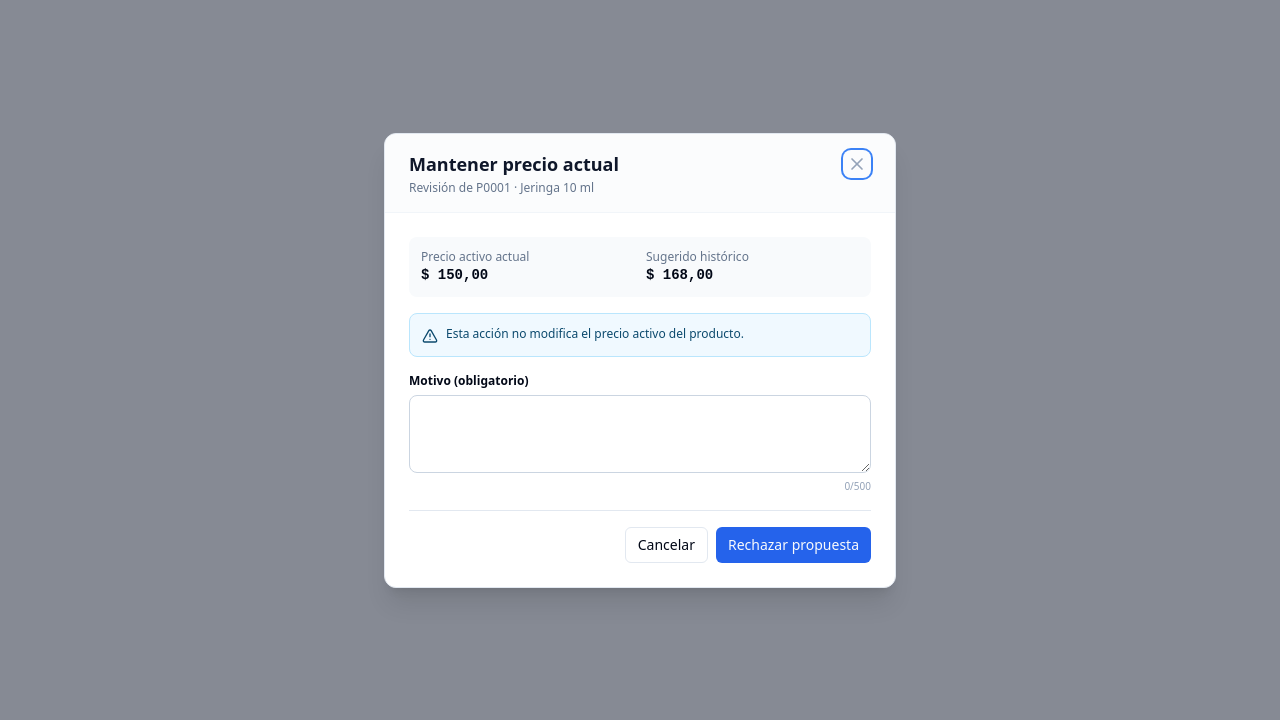
PriceReviewDecisionModal › requires a reason to reject and communicates that the active price is unchanged
expect the text "Esta acción no modifica el precio activo del producto." is shown: met, box x1=446 y1=326 x2=744 y2=342
Click the button "Rechazar propuesta" at (794, 544), box x1=716 y1=526 x2=871 y2=562
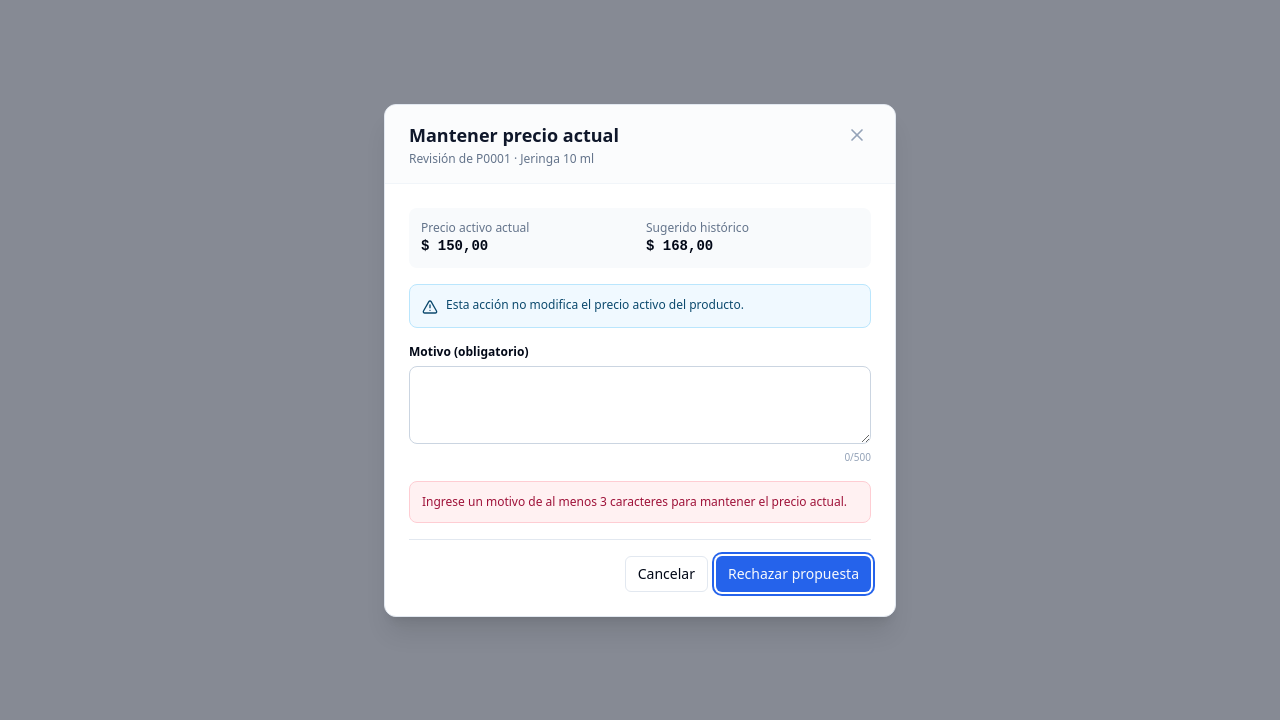
expect the message shows "al menos 3 caracteres": met, box x1=422 y1=492 x2=847 y2=510
